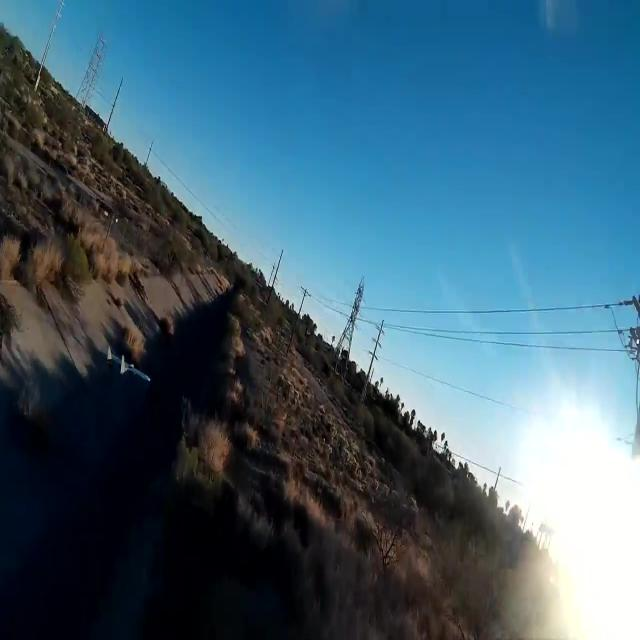iha: (35, 343, 86, 384)
